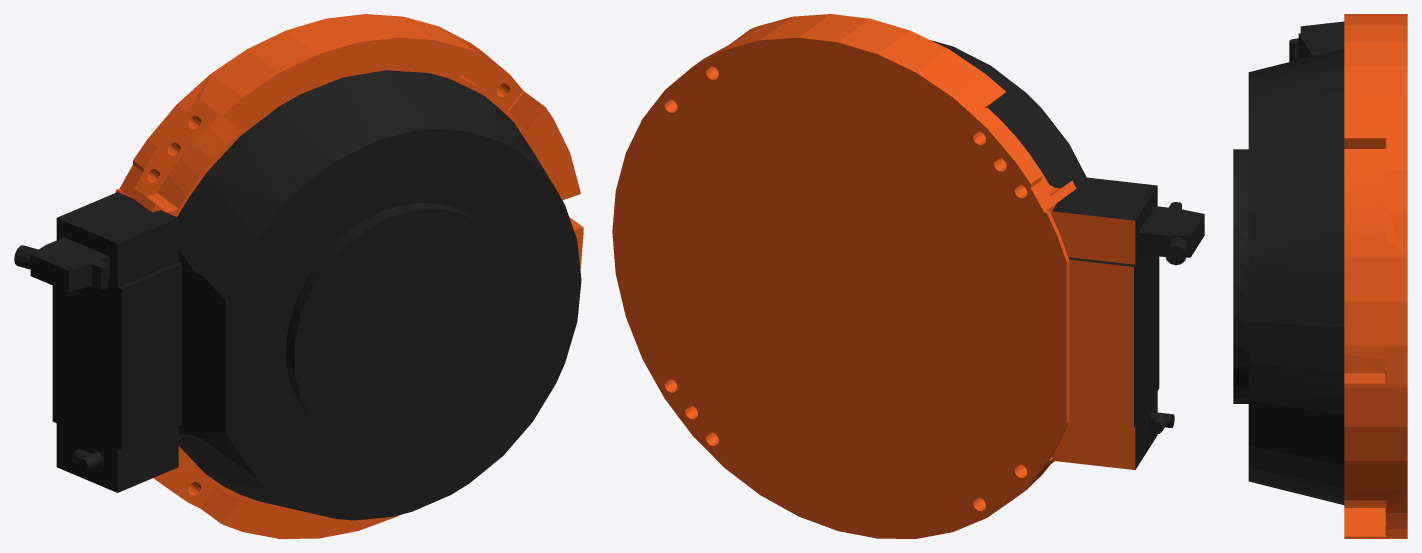
3 renders of one model, left to right at view 1: azimuth 30°, elevation 25°; view 2: azimuth 150°, elevation 25°; view 3: azimuth 270°, elevation 25°, orthographic. The views are drawn at different scales.
Parts seen in each view (by area): view 1: skpE884 (×4); view 2: skpE884 (×4); view 3: skpE884 (×4).
Boxes of the visible parts, bbox=[...] form: skpE884 (×4): bbox=[30, 14, 583, 538]; skpE884 (×4): bbox=[612, 14, 1204, 538]; skpE884 (×4): bbox=[1233, 14, 1407, 538].
Bounding box in the file's own units: 46.82 × 13.03 × 39.35.
